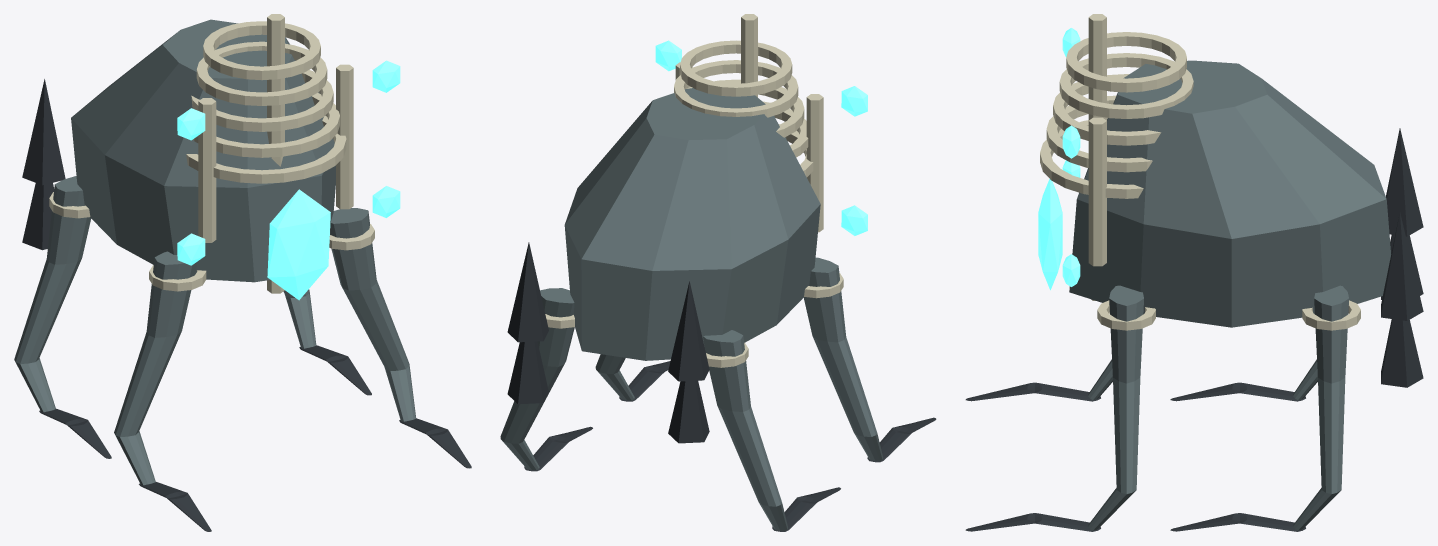
File: rattleblind.fbx
3 renders of one model, left to right at view 1: azimuth 30°, elevation 25°; view 2: azimuth 150°, elevation 25°; view 3: azimuth 270°, elevation 25°, orthographic. The views are drawn at different scales.
Visible parts, largest first — view 1: resonant_back, leg_1_skin.001, leg_3_skin, leg_0_skin.001, HP_rattleblind_resonator, hearing_plate_4, hearing_plate_3, HP_rattleblind_ear_0, HP_rattleblind_spine_0, hearing_plate_0, HP_rattleblind_ear_1, hearing_plate_2 (+14 smaller); view 2: resonant_back, leg_3_skin, leg_1_skin.001, leg_2_skin.001, hearing_plate_4, hearing_plate_3, HP_rattleblind_spine_0, HP_rattleblind_spine_1, HP_rattleblind_spine_2, HP_rattleblind_spine_3, HP_rattleblind_ear_0, HP_rattleblind_ear_2 (+10 smaller); view 3: resonant_back, leg_0_skin.001, leg_2_skin.001, hearing_plate_4, hearing_plate_3, HP_rattleblind_ear_1, HP_rattleblind_spine_1, HP_rattleblind_spine_0, HP_rattleblind_spine_3, HP_rattleblind_resonator, hearing_plate_2, hearing_plate_1 (+8 smaller).
Part boxes in pixels (left/top/right/bottom): resonant_back: left=71, top=19, right=335, bottom=282; leg_1_skin.001: left=114, top=251, right=197, bottom=485; leg_3_skin: left=14, top=176, right=91, bottom=412; leg_0_skin.001: left=330, top=208, right=415, bottom=421; HP_rattleblind_resonator: left=267, top=189, right=330, bottom=300; hearing_plate_4: left=203, top=21, right=320, bottom=80; hearing_plate_3: left=196, top=41, right=327, bottom=105; HP_rattleblind_ear_0: left=198, top=98, right=216, bottom=242; HP_rattleblind_spine_0: left=22, top=79, right=65, bottom=185; hearing_plate_0: left=186, top=115, right=346, bottom=183; HP_rattleblind_ear_1: left=336, top=64, right=353, bottom=209; hearing_plate_2: left=191, top=70, right=333, bottom=131; resonant_back: left=564, top=88, right=820, bottom=360; leg_3_skin: left=703, top=330, right=787, bottom=530; leg_1_skin.001: left=803, top=257, right=883, bottom=461; leg_2_skin.001: left=500, top=288, right=574, bottom=470; hearing_plate_4: left=680, top=40, right=792, bottom=96; hearing_plate_3: left=674, top=60, right=798, bottom=117; HP_rattleblind_spine_0: left=668, top=281, right=709, bottom=381; HP_rattleblind_spine_1: left=507, top=242, right=548, bottom=342; HP_rattleblind_spine_2: left=668, top=380, right=709, bottom=443; HP_rattleblind_spine_3: left=507, top=341, right=548, bottom=404; HP_rattleblind_ear_0: left=806, top=94, right=823, bottom=232; HP_rattleblind_ear_2: left=741, top=14, right=757, bottom=97; resonant_back: left=1069, top=60, right=1391, bottom=327; leg_0_skin.001: left=1088, top=285, right=1143, bottom=530; leg_2_skin.001: left=1293, top=285, right=1348, bottom=530; hearing_plate_4: left=1066, top=32, right=1186, bottom=92; hearing_plate_3: left=1059, top=53, right=1193, bottom=118; HP_rattleblind_ear_1: left=1088, top=117, right=1106, bottom=266; HP_rattleblind_spine_1: left=1381, top=212, right=1423, bottom=320; HP_rattleblind_spine_0: left=1386, top=128, right=1423, bottom=236; HP_rattleblind_spine_3: left=1381, top=319, right=1423, bottom=387; HP_rattleblind_resonator: left=1038, top=179, right=1062, bottom=290; hearing_plate_2: left=1053, top=74, right=1161, bottom=145; hearing_plate_1: left=1046, top=95, right=1152, bottom=172.
Bounding box in the file's own units: 133 × 188 × 174.
